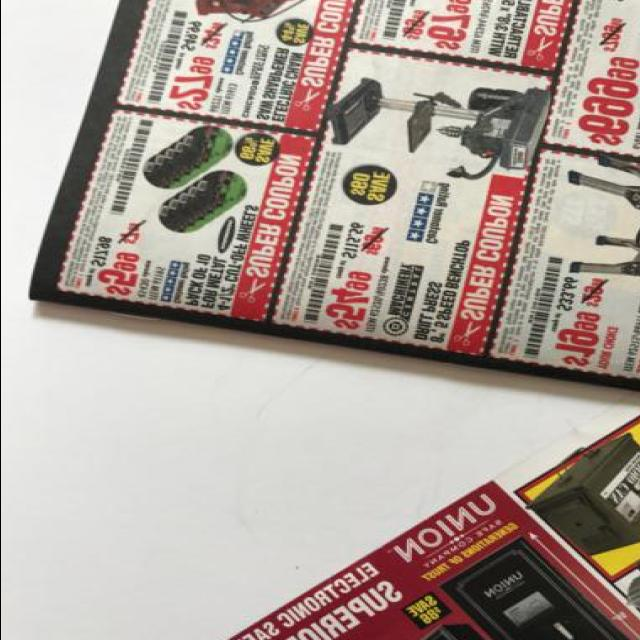kertas: (21, 0, 640, 396), (187, 400, 640, 640)
